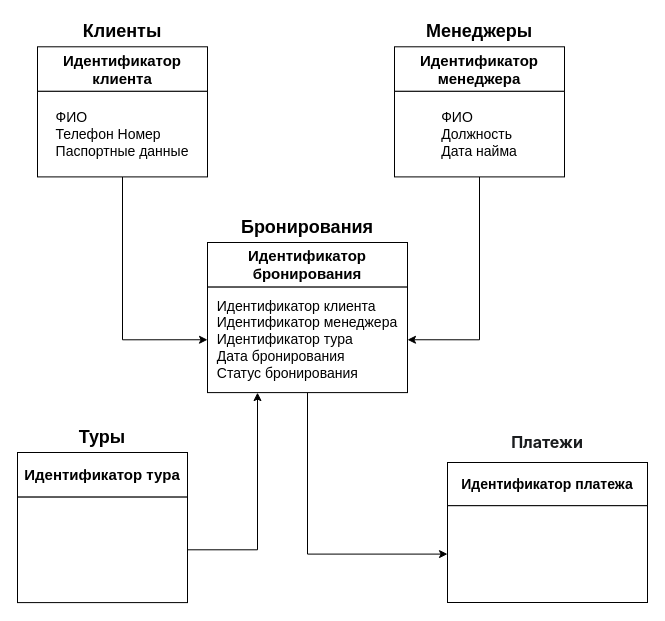
This 665x621 diagram has some shape labels left out. The centre of each missing label's shape, as x and y in pixels:
Идентификатор заказа (FK) Сумма Дата: [547,553]
Описание Базовая цена Название партнёра Контракты партнёра Тип тура: [102,549]
